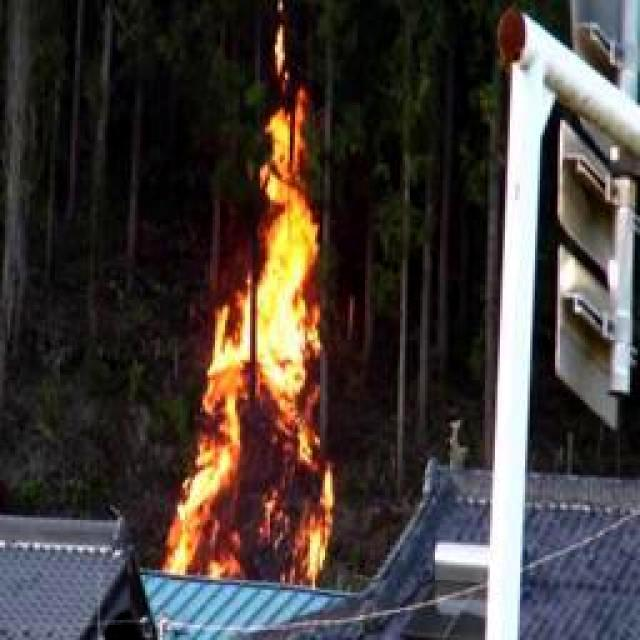fire: (166, 109, 334, 584)
